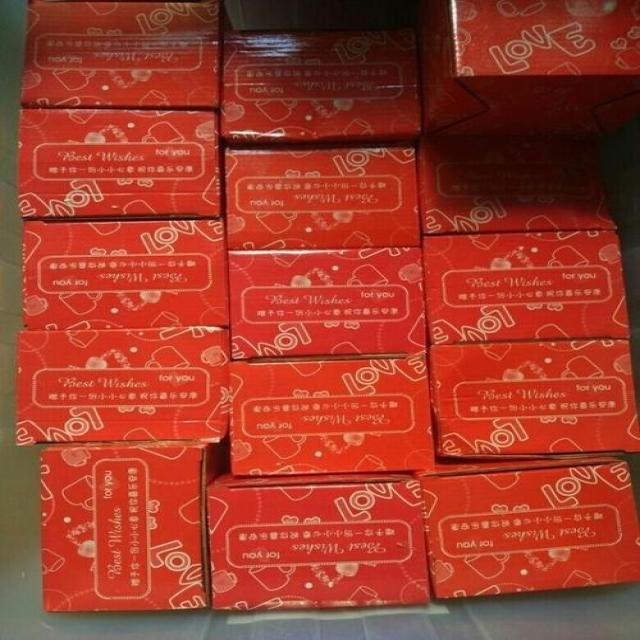box: (37, 442, 228, 611), (421, 457, 639, 600), (411, 3, 639, 136), (208, 474, 428, 610), (232, 351, 439, 474), (16, 327, 231, 444), (428, 338, 639, 455), (424, 227, 632, 345), (16, 107, 226, 219), (226, 245, 428, 361), (20, 217, 228, 329), (218, 30, 420, 145), (19, 2, 235, 106), (220, 143, 425, 251), (414, 137, 620, 233)
